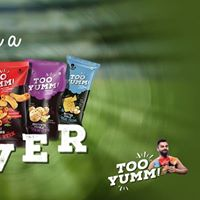plastic: (28, 58, 59, 138), (1, 64, 26, 144), (65, 61, 95, 125)
tooyumm: (108, 156, 160, 186), (29, 77, 57, 91), (67, 72, 88, 88), (1, 73, 15, 85)
wrapper: (1, 66, 100, 138)
